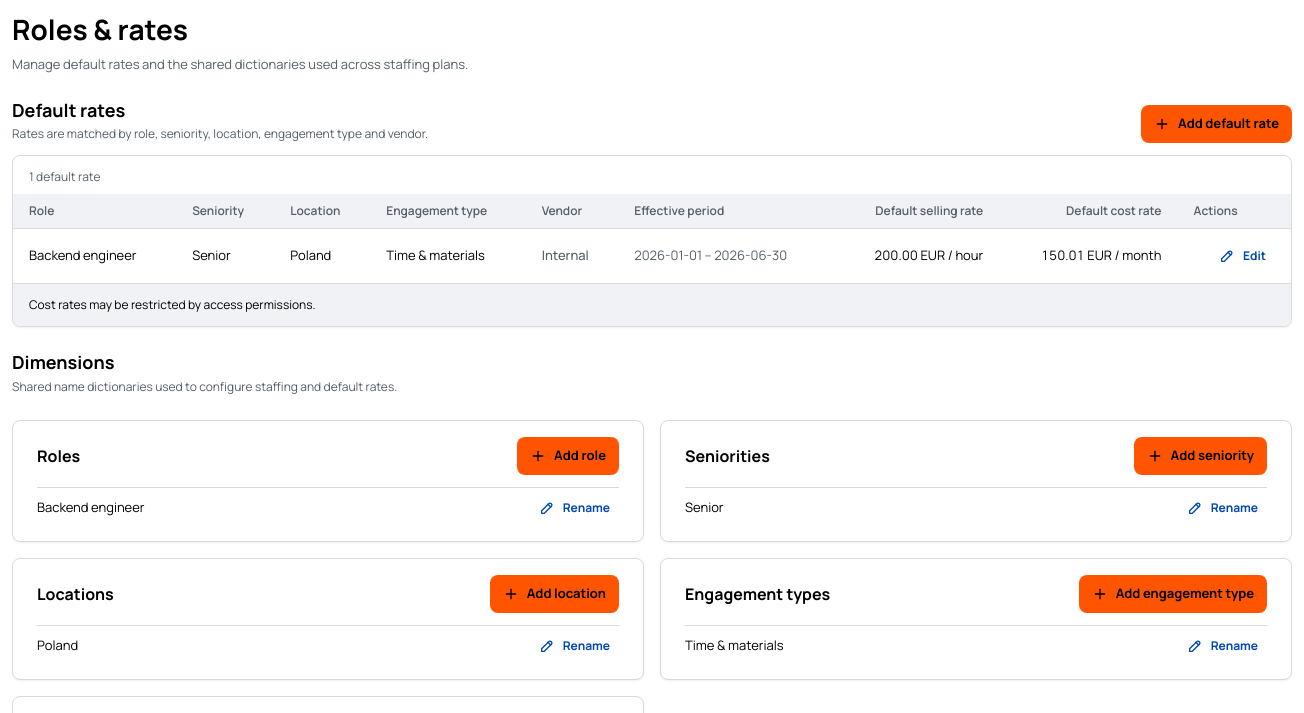
it: the cost rate unit on the catalogue screen (SC-5-09) › K-04: has exactly one unit control, and it is named as the cost rate's; the selling unit is stated and not offered
Expected: the element "Default rates" is shown, top-left (12, 98), bottom-right (1292, 327)
Click the button "Add default rate": (1216,124) top-left (1141, 105), bottom-right (1292, 143)
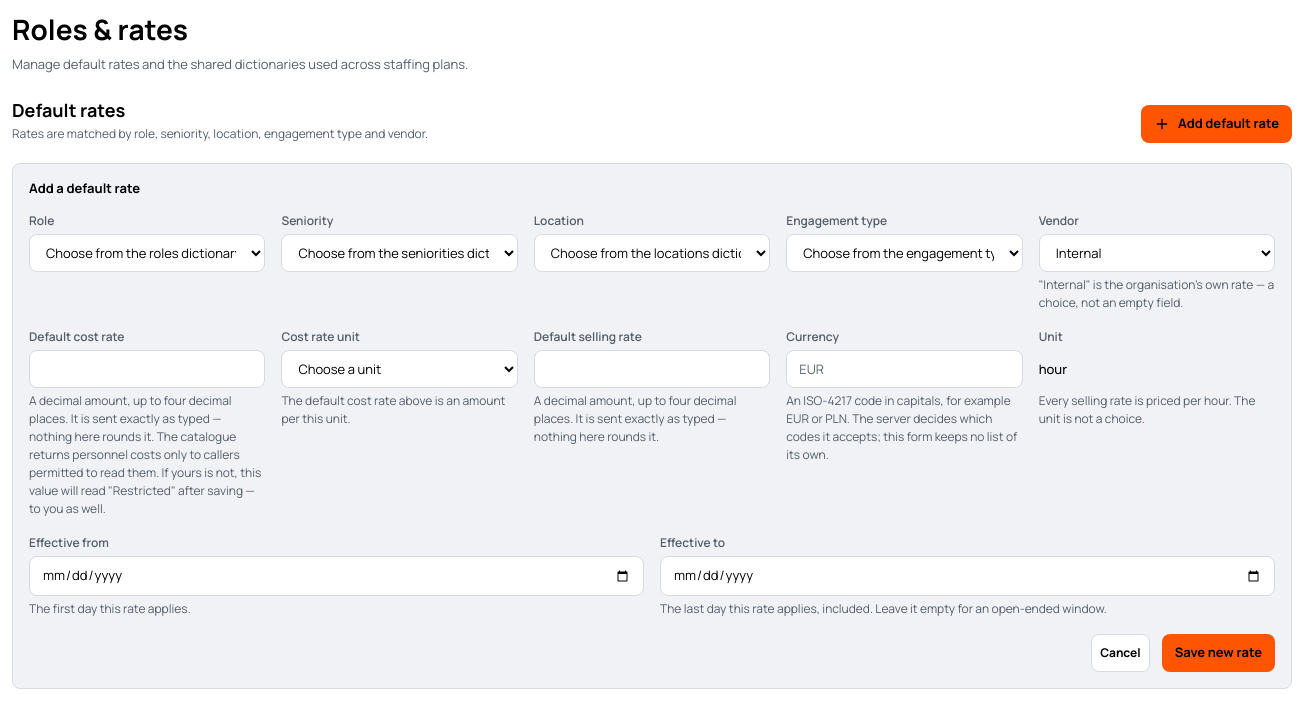
Now the number of dropdowns labelled "Cost rate unit" is 1, box top-left (281, 350), bottom-right (518, 388)
Now the text "Unit" is shown, box top-left (1039, 328), bottom-right (1063, 345)
Now the text "Every selling rate is priced per hour" is shown, box top-left (1039, 392), bottom-right (1255, 427)
